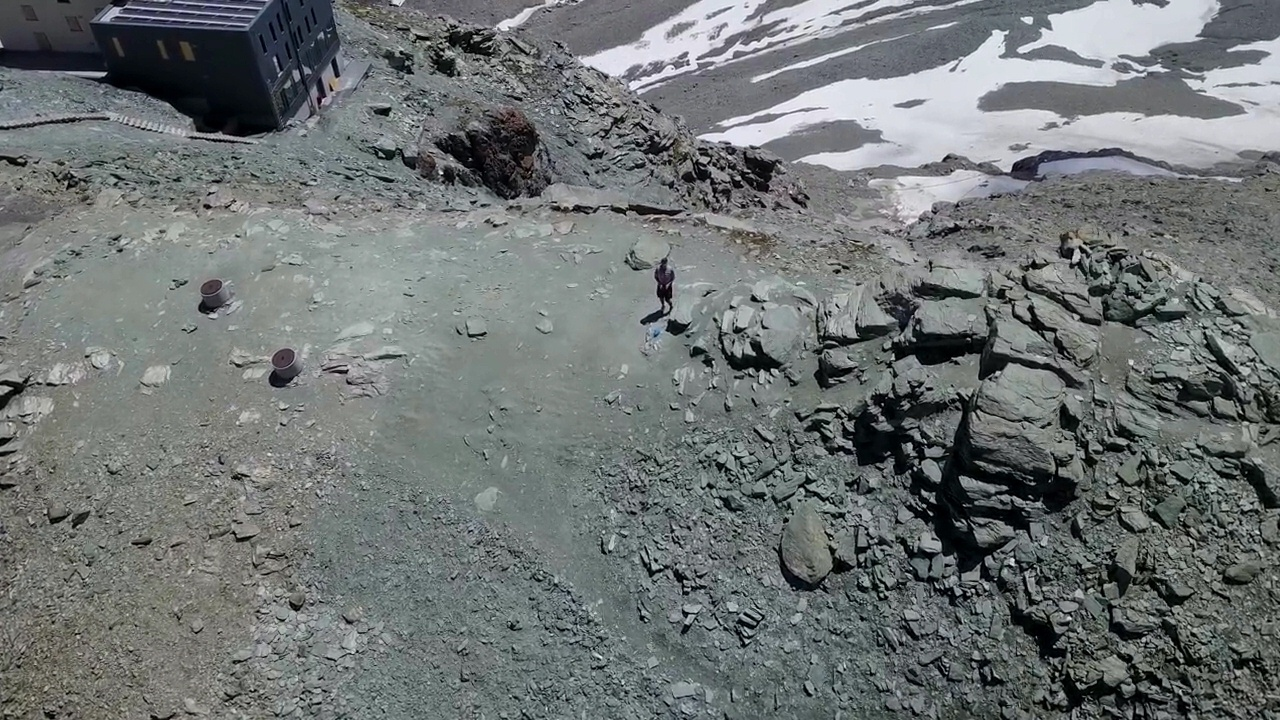insan: (652, 255, 680, 314)
